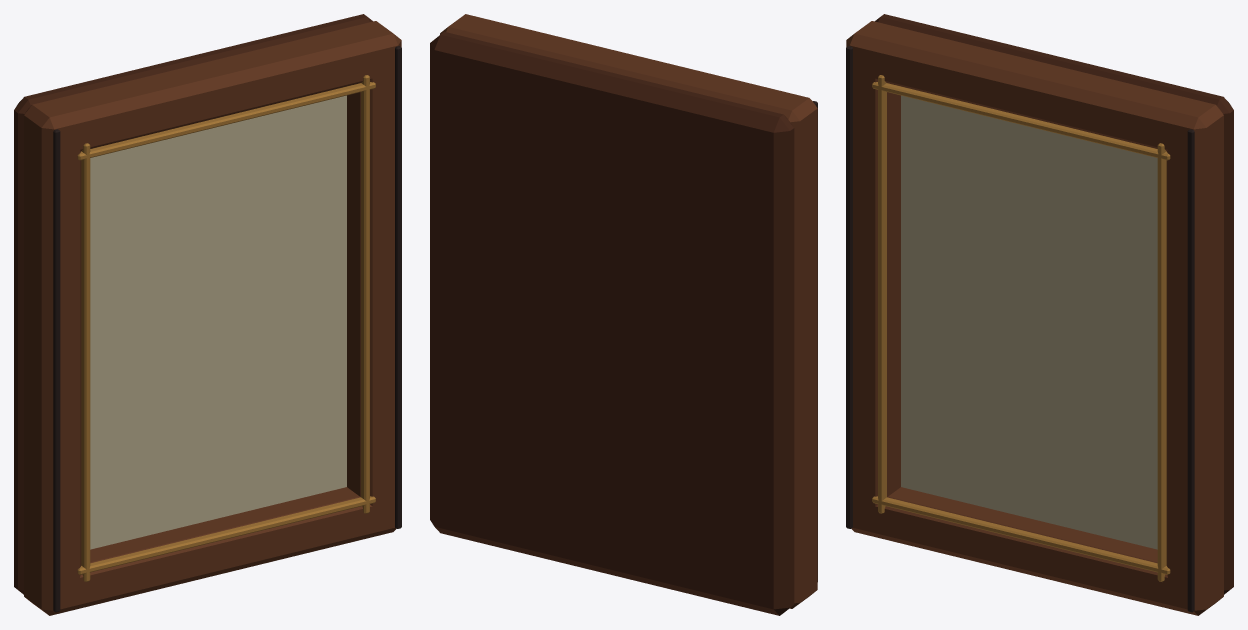
The model's file is PortraitFrame.glb.
The picture shows the model from 3 angles, left to right: view 1: azimuth 30°, elevation 25°; view 2: azimuth 150°, elevation 25°; view 3: azimuth 330°, elevation 25°; orthographic projection.
Visible parts, largest first — view 1: BlankPictureInsert, OakSideRail, OakEndRail.001, OakSideRail.001, OakEndRail, Backing, BrassInnerRail, OuterDarkRail, BrassInnerRail.001, OuterDarkRail.001, BrassInnerEnd, BrassInnerEnd.001; view 2: Backing, OakSideRail, OakEndRail.001; view 3: BlankPictureInsert, OakSideRail.001, OakEndRail.001, OakSideRail, OakEndRail, Backing, BrassInnerRail.001, OuterDarkRail.001, BrassInnerRail, OuterDarkRail, BrassInnerEnd, BrassInnerEnd.001.
Boxes of the visible parts, left/top/right/bottom form: BlankPictureInsert: left=90, top=95, right=346, bottom=549; OakSideRail: left=24, top=107, right=81, bottom=615; OakEndRail.001: left=24, top=21, right=401, bottom=155; OakSideRail.001: left=347, top=73, right=394, bottom=535; OakEndRail: left=41, top=487, right=396, bottom=615; Backing: left=14, top=14, right=372, bottom=594; BrassInnerRail: left=81, top=143, right=90, bottom=581; OuterDarkRail: left=53, top=129, right=60, bottom=612; BrassInnerRail.001: left=361, top=75, right=369, bottom=513; OuterDarkRail.001: left=395, top=46, right=401, bottom=528; BrassInnerEnd: left=77, top=496, right=375, bottom=574; BrassInnerEnd.001: left=77, top=82, right=375, bottom=160; Backing: left=430, top=32, right=794, bottom=615; OakSideRail: left=766, top=105, right=817, bottom=608; OakEndRail.001: left=440, top=14, right=817, bottom=148; BlankPictureInsert: left=901, top=95, right=1157, bottom=549; OakSideRail.001: left=1166, top=117, right=1223, bottom=615; OakEndRail.001: left=846, top=21, right=1223, bottom=155; OakSideRail: left=846, top=40, right=900, bottom=535; OakEndRail: left=853, top=487, right=1217, bottom=615; Backing: left=875, top=14, right=1233, bottom=594; BrassInnerRail.001: left=1157, top=143, right=1166, bottom=581; OuterDarkRail.001: left=1187, top=129, right=1194, bottom=612; BrassInnerRail: left=878, top=75, right=886, bottom=513; OuterDarkRail: left=846, top=46, right=852, bottom=528; BrassInnerEnd: left=872, top=496, right=1170, bottom=574; BrassInnerEnd.001: left=872, top=82, right=1170, bottom=160.
Bounding box in the file's own units: 1.55 × 2.05 × 0.305.
